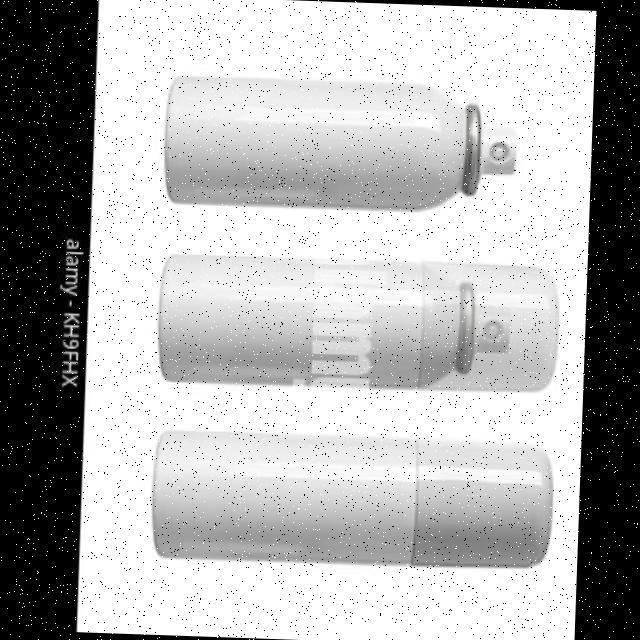chemical_spray_can: (146, 66, 528, 242)
